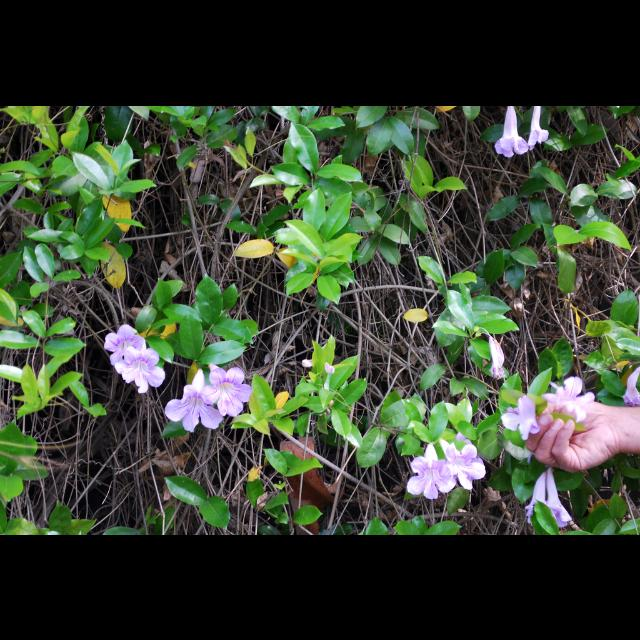Flower: (99, 318, 159, 394), (164, 368, 226, 432), (200, 362, 258, 416), (407, 440, 458, 500), (440, 436, 488, 492), (546, 372, 598, 422), (499, 395, 551, 443), (494, 105, 532, 157), (544, 463, 572, 525), (524, 470, 554, 524), (527, 105, 549, 149), (620, 362, 640, 403)
